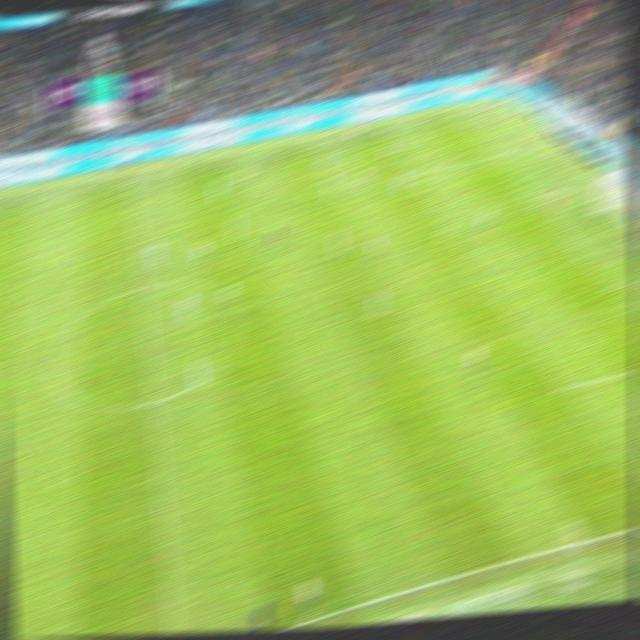bigarea_bottom_inner: (555, 383, 576, 396), (604, 282, 626, 293)
bigarea_top_inner: (406, 170, 425, 180)
bigarea_top_outter: (522, 138, 543, 155)
bottom_arc_area_intersection: (494, 295, 515, 308)
corner: (478, 101, 498, 114)
halfcircle_bottom: (143, 396, 165, 409)
halfcircle_top: (132, 282, 152, 294)
midline_top_intersection: (125, 176, 140, 186)
smallarea_top_inner: (523, 191, 541, 204)
smallarea_top_outter: (567, 184, 583, 192)
top_arc_area_intersection: (440, 221, 460, 232)
